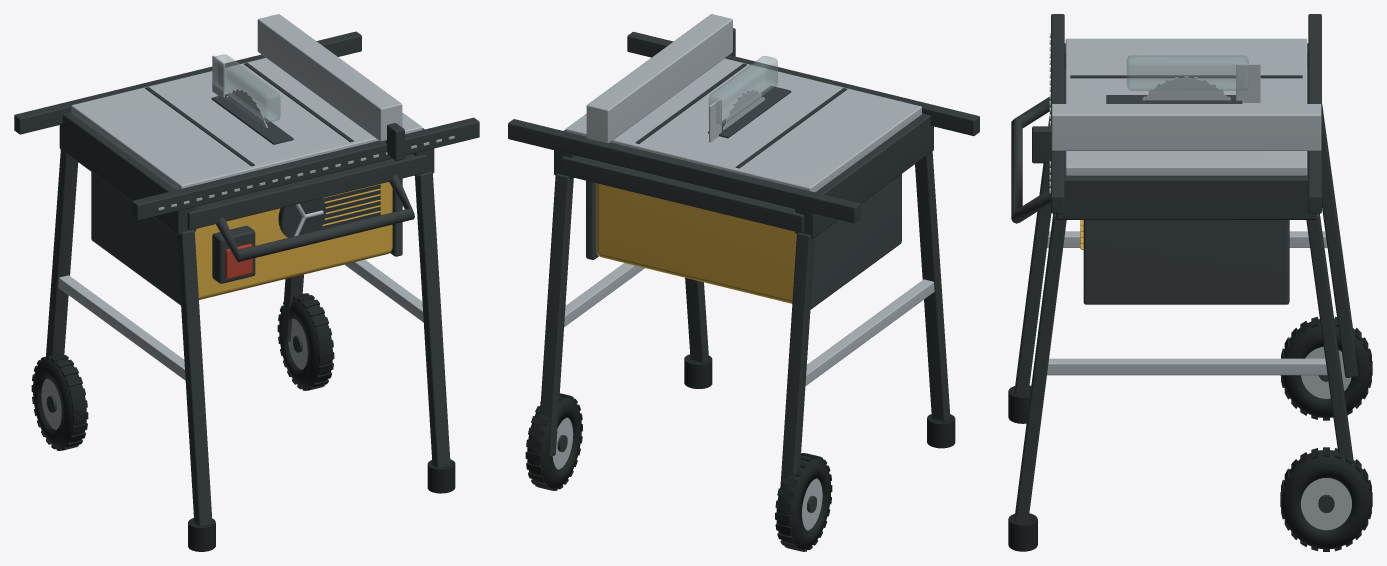
Rendered from garage-table-saw.glb.
The picture shows the model from 3 angles, left to right: view 1: azimuth 30°, elevation 25°; view 2: azimuth 150°, elevation 25°; view 3: azimuth 270°, elevation 25°; orthographic projection. The views are drawn at different scales.
Parts seen in each view (by area): view 1: catalog_surface_RealismUV, catalog_surface_UVMap; view 2: catalog_surface_RealismUV, catalog_surface_UVMap; view 3: catalog_surface_RealismUV, catalog_surface_UVMap.
Part boxes in pixels (bbox=[...]): catalog_surface_RealismUV: bbox=[14, 14, 479, 551]; catalog_surface_UVMap: bbox=[212, 54, 280, 122]; catalog_surface_RealismUV: bbox=[508, 14, 979, 551]; catalog_surface_UVMap: bbox=[708, 55, 777, 124]; catalog_surface_RealismUV: bbox=[1008, 14, 1372, 551]; catalog_surface_UVMap: bbox=[1126, 55, 1248, 90].
Size of the model in its own units: 0.95 by 1.03 by 0.8.
